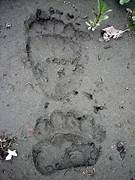bear: (22, 6, 89, 95), (25, 109, 108, 172)
